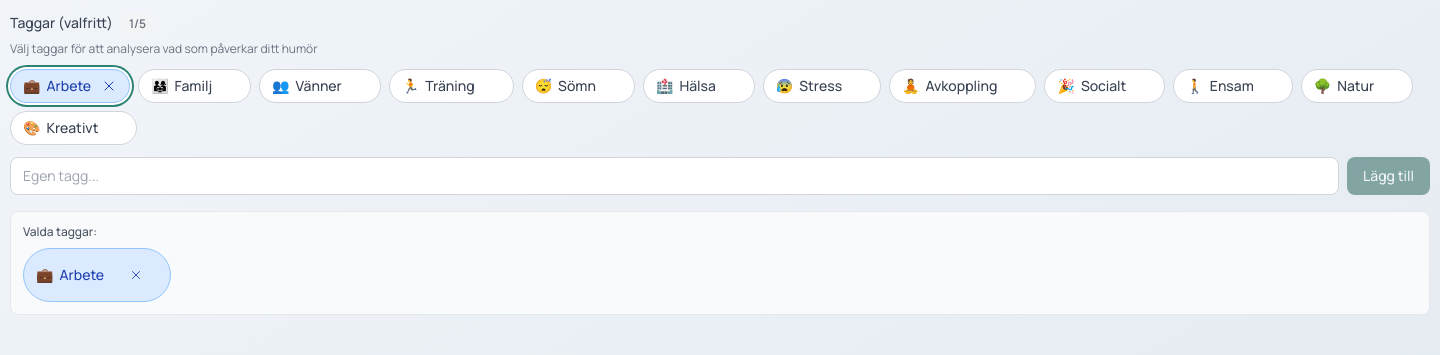
it: a tag cannot be added twice under a different casing › rejects the label of a preset that is already selected
The image size is (1440, 355).
Step 1. Type "arbete" into the field with placeholder "Egen tagg..." → coordinates (674, 176), box [10,157,1339,195]
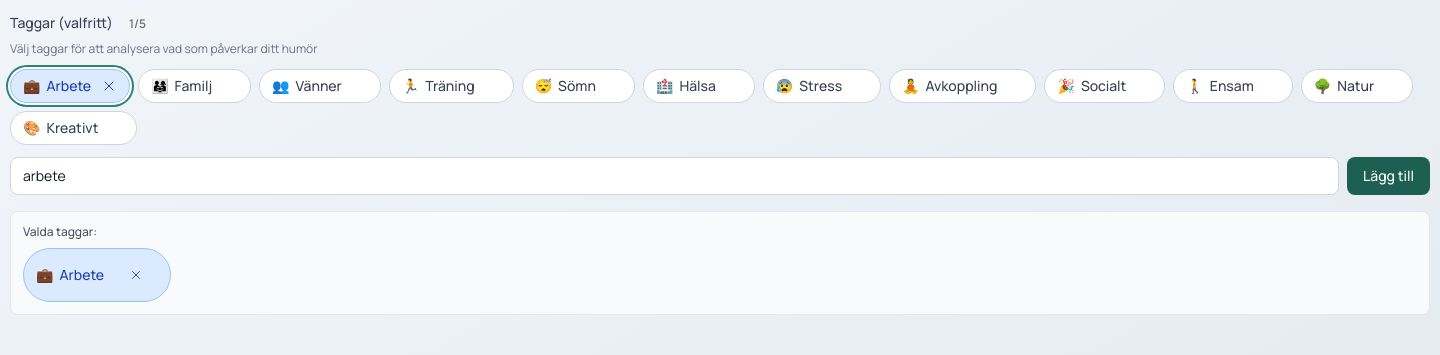
Step 2. Click the button "Lägg till" → coordinates (1388, 176), box [1347,157,1430,195]
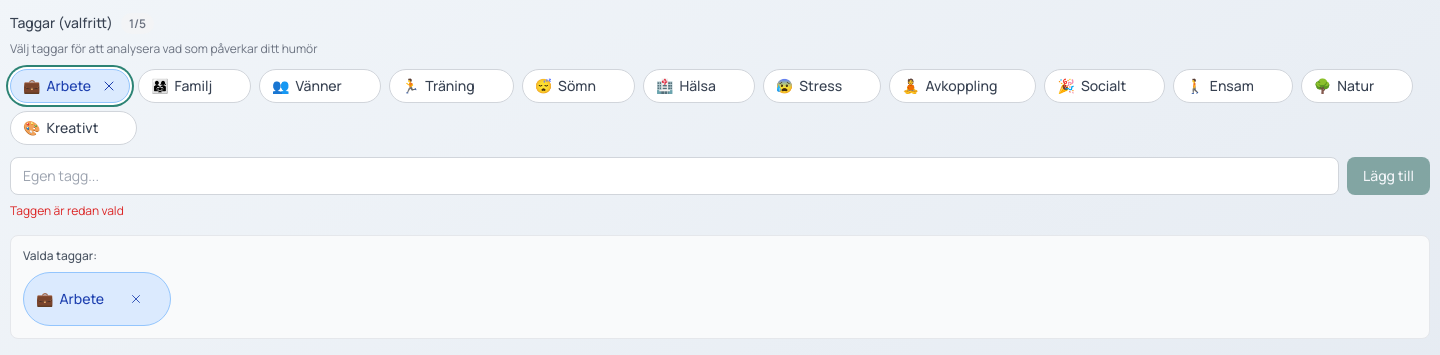
Expected: the message "Taggen är redan vald" is shown, [10,202,124,219]
